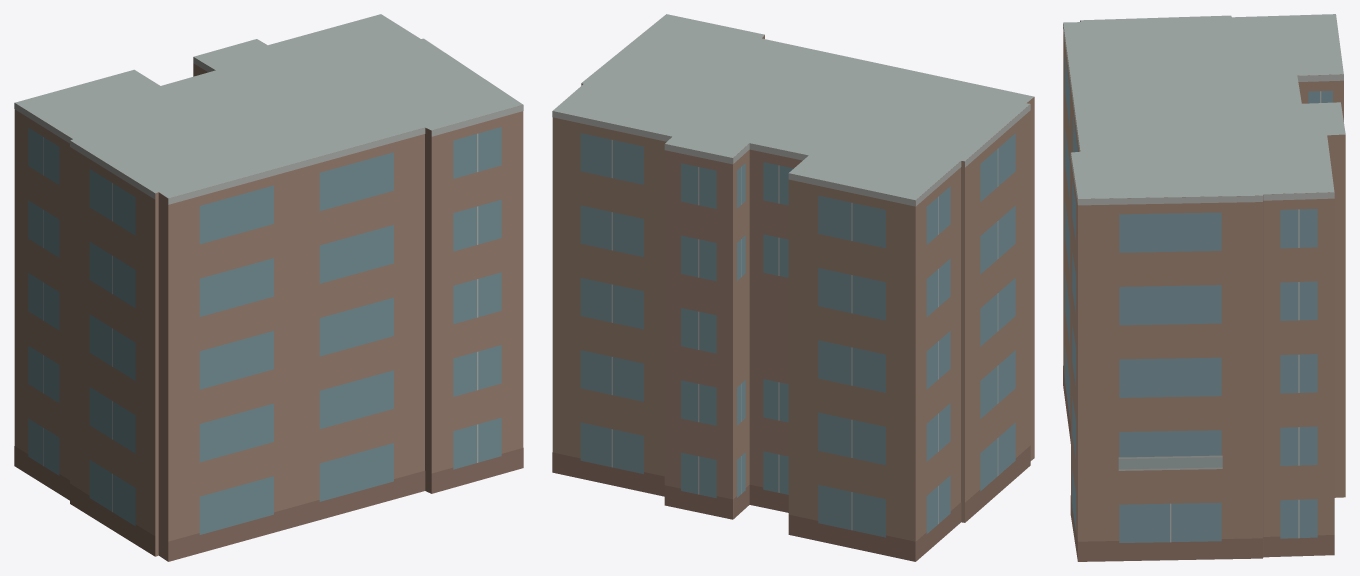
Rendered from survey-upis-32657036.glb.
The picture shows the model from 3 angles, left to right: view 1: azimuth 30°, elevation 25°; view 2: azimuth 150°, elevation 25°; view 3: azimuth 270°, elevation 25°; orthographic projection.
Parts seen in each view (by area): view 1: survey-upis-32657036.tmp; view 2: survey-upis-32657036.tmp; view 3: survey-upis-32657036.tmp.
Boxes of the visible parts, left/top/right/bottom form: survey-upis-32657036.tmp: left=14, top=14, right=523, bottom=561; survey-upis-32657036.tmp: left=552, top=14, right=1034, bottom=561; survey-upis-32657036.tmp: left=1063, top=14, right=1345, bottom=561.
Bounding box in the file's own units: 15.21 × 13.9 × 9.82.
